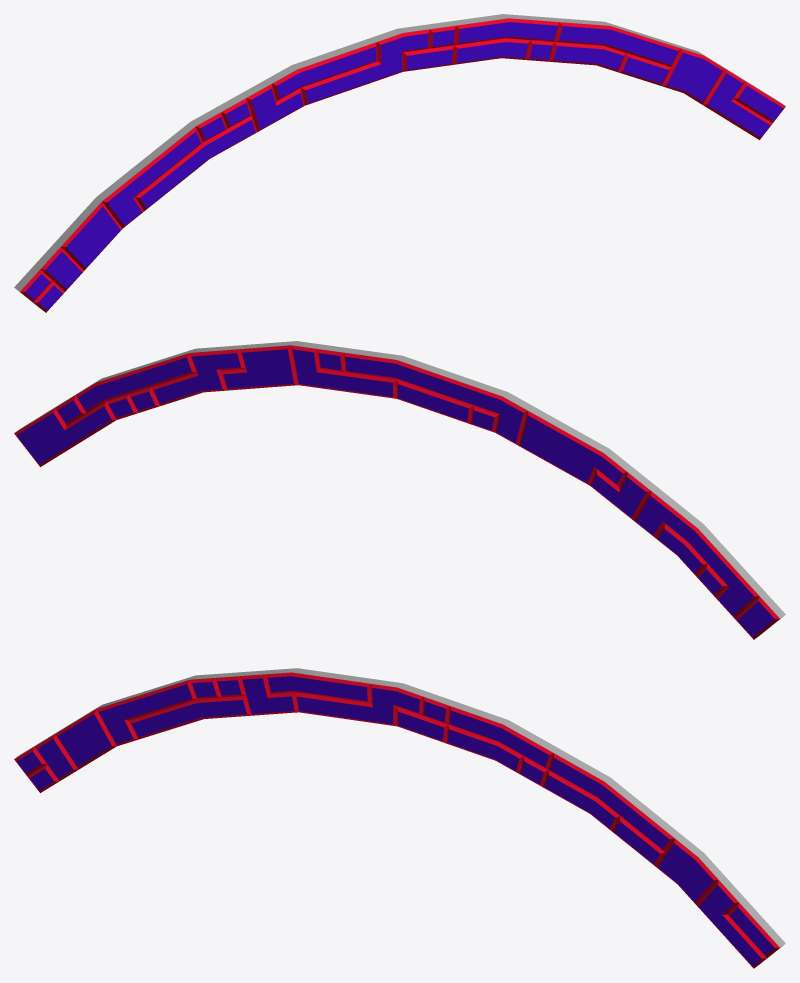
Rendered from Ms_MurScifi03.fbx.
The picture shows the model from 3 angles, top to bottom: view 1: azimuth 30°, elevation 25°; view 2: azimuth 150°, elevation 25°; view 3: azimuth 330°, elevation 25°; orthographic projection.
Parts seen in each view (by area): view 1: Mur11, Mur10; view 2: Mur11, Mur10; view 3: Mur11, Mur10.
Part boxes in pixels (x1=…): Mur11: x1=20, y1=18, x2=785, y2=312; Mur10: x1=14, y1=14, x2=783, y2=310; Mur11: x1=14, y1=345, x2=779, y2=639; Mur10: x1=16, y1=341, x2=785, y2=637; Mur11: x1=14, y1=672, x2=779, y2=968; Mur10: x1=15, y1=668, x2=785, y2=967.
Size of the model in its own units: 1.52 by 0.3679 by 0.03.
